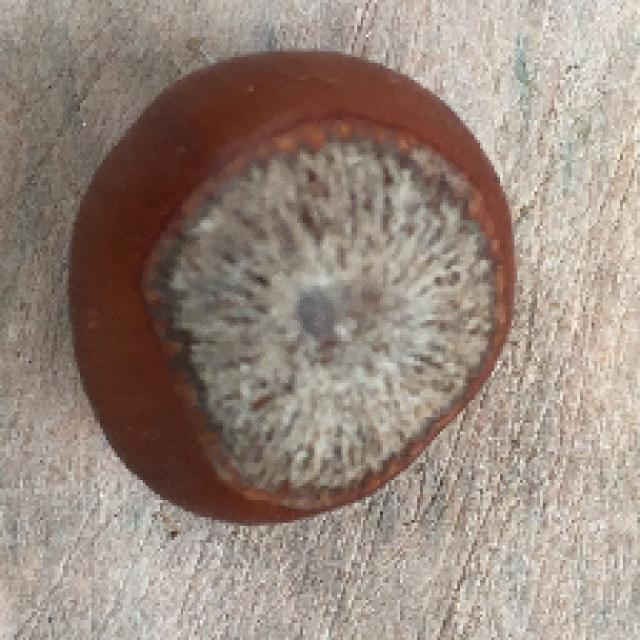qualityHazelnut: (64, 53, 523, 533)
